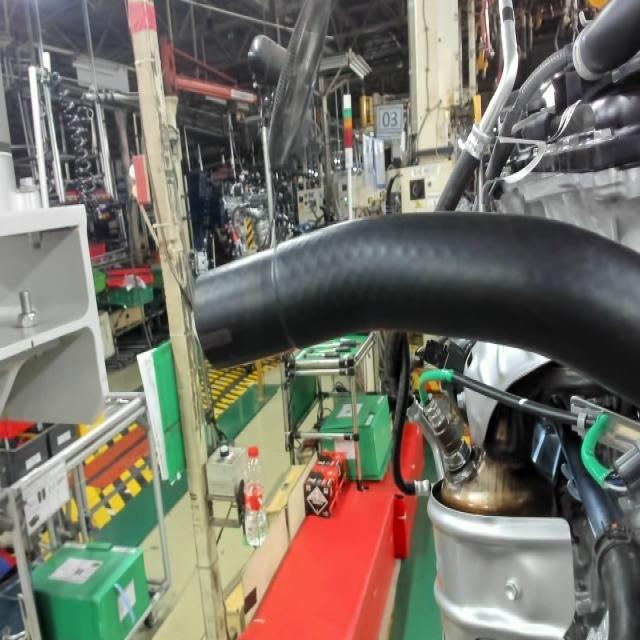Hose Radiator-PC: (197, 316, 239, 363)
